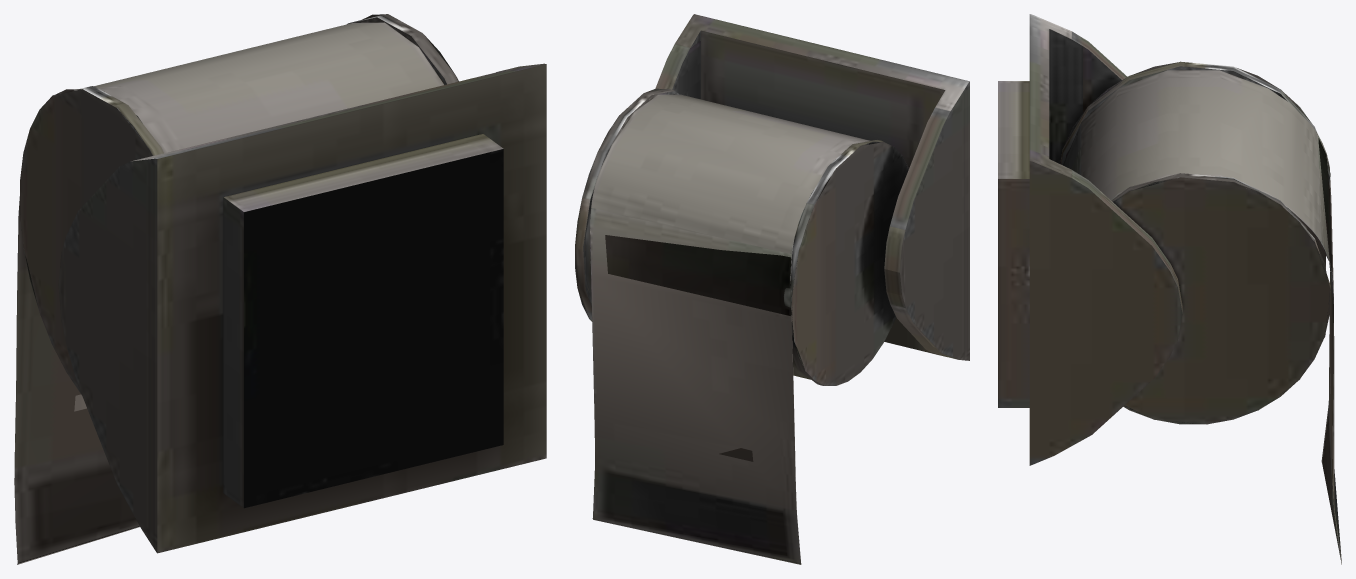
The model's file is 2014_WSJ_JJ_29.FBX.
3 views of the same model, side by side, from view 1: azimuth 30°, elevation 25°; view 2: azimuth 150°, elevation 25°; view 3: azimuth 270°, elevation 25° (orthographic). The views are drawn at different scales.
Parts seen in each view (by area): view 1: 2014_WSJ_JJ_29; view 2: 2014_WSJ_JJ_29; view 3: 2014_WSJ_JJ_29.
Boxes of the visible parts, x1,y1,x2,y2 form: 2014_WSJ_JJ_29: (14, 14, 546, 564); 2014_WSJ_JJ_29: (575, 14, 969, 564); 2014_WSJ_JJ_29: (998, 14, 1341, 564).
Size of the model in its own units: 0.1755 by 0.2394 by 0.1735.
